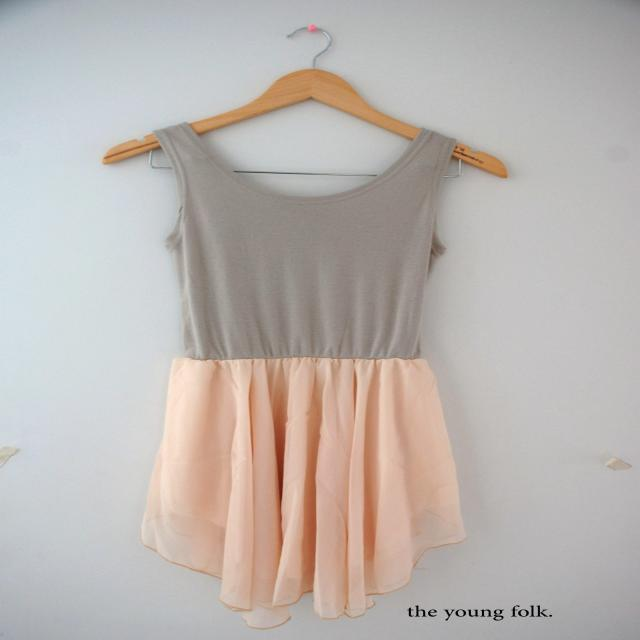Dress: (146, 118, 482, 602)
